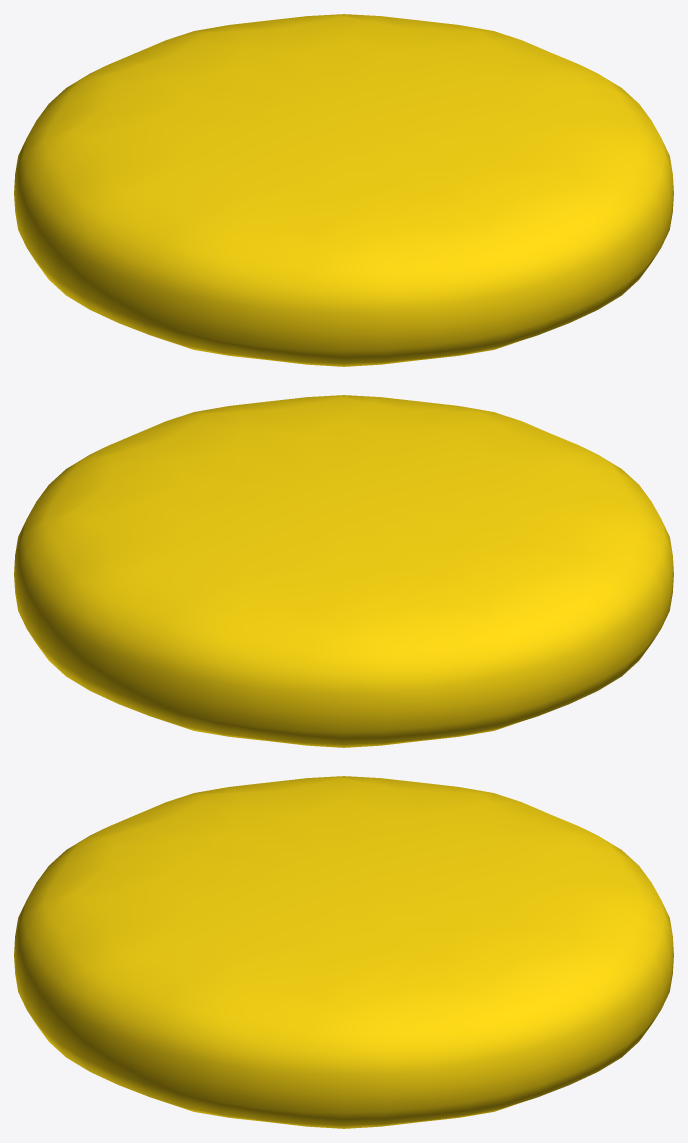
File: yellow.glb
3 views of the same model, one above another, from view 1: azimuth 30°, elevation 25°; view 2: azimuth 150°, elevation 25°; view 3: azimuth 270°, elevation 25° (orthographic).
Visible parts, largest first — view 1: yellow; view 2: yellow; view 3: yellow.
Boxes of the visible parts, box(x1,y1,x2,y2) form: yellow: box(14, 14, 673, 366); yellow: box(14, 395, 673, 747); yellow: box(14, 776, 673, 1128).
Size of the model in its own units: 0.1212 by 0.0298 by 0.1212.
Materials: 1 (1 with a texture image).
